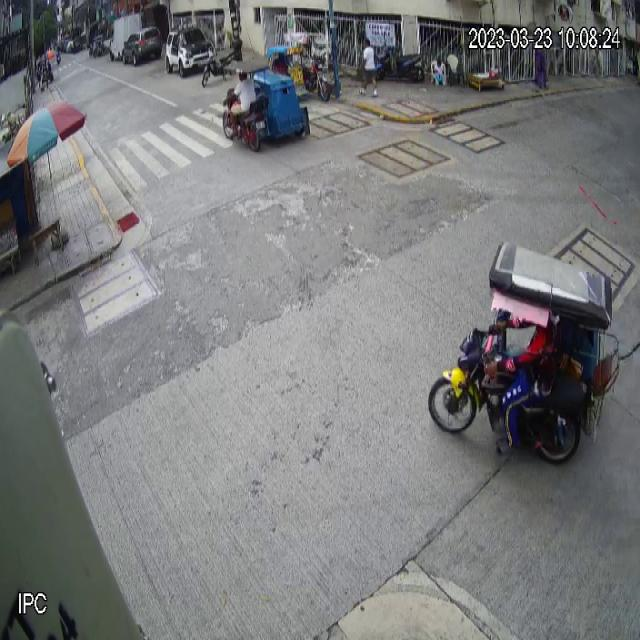Tricycle: (426, 236, 624, 469), (223, 58, 313, 156)
